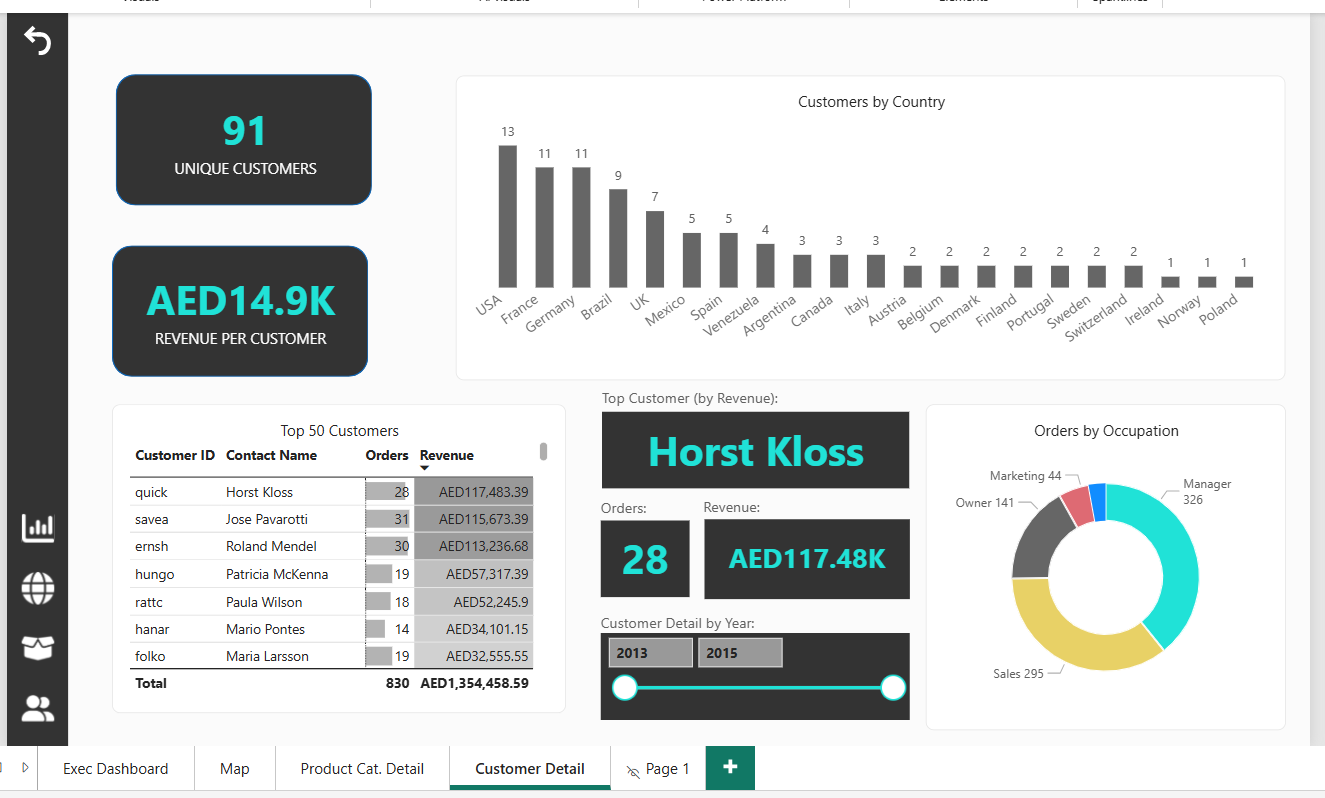

The page's visual inventory and layout, read from the dashboard file:
{"tool":"powerbi","page":{"name":"Customer Detail","canvas":[1280,720],"ordinal":3},"visuals":[{"type":"shape","box":[0,0,60.1,720.2],"z":0},{"type":"shape","box":[107,60.1,251.5,128.8],"z":1000},{"type":"actionButton","box":[0,481,60.1,50.3],"z":1000,"group":"g1"},{"type":"card","fields":{"Values":["Measure Table.Total Customers"]},"box":[107.5,60,252.5,128.8],"z":2000},{"type":"actionButton","box":[0,539.9,60.1,50.3],"z":2000,"group":"g1"},{"type":"shape","box":[103,228.1,251.5,128.8],"z":3000},{"type":"actionButton","box":[0,598.8,60.1,50.3],"z":3000,"group":"g1"},{"type":"card","fields":{"Values":["Measure Table.Average Revenue per customer"]},"box":[103.8,227.5,250,128.8],"z":4000},{"type":"actionButton","box":[0,657.7,60.1,50.3],"z":4000,"group":"g1"},{"type":"tableEx","title":"Top 50 Customers","fields":{"Values":["customers.Customer ID","customers.Contact Name","Measure Table.Total Orders","Measure Table.Total Sales"]},"box":[103.1,384.1,445.4,303.1],"z":5000},{"type":"textbox","box":[583.8,368.3,181.6,27],"z":6000},{"type":"card","fields":{"Values":["Min(customers.Contact Name)"]},"box":[584.1,391.4,301.8,74.8],"z":7000},{"type":"card","fields":{"Values":["Measure Table.Total Orders"]},"box":[582.8,498.2,87.1,74.8],"z":8000},{"type":"textbox","box":[582.8,476.6,58.9,22.1],"z":9000},{"type":"card","fields":{"Values":["Measure Table.Total Revenue"]},"box":[684.7,496.9,201.2,78.5],"z":10000},{"type":"textbox","box":[683.7,474.8,58.9,22.1],"z":11000},{"type":"group","id":"g1","title":"Navigation","box":[0,481,60.1,227],"z":12000},{"type":"clusteredColumnChart","title":"Customers by Country","fields":{"Category":["customers.Country"],"Y":["CountNonNull(customers.Customer ID)"]},"box":[440.5,61.4,814.7,299.4],"z":13000},{"type":"slicer","fields":{"Values":["orders.Year"]},"box":[582.8,608.6,303.1,84.7],"z":14000},{"type":"textbox","box":[582.8,589.5,173,19.6],"z":15000},{"type":"donutChart","title":"Orders by Occupation","fields":{"Category":["customers.Occupation"],"Y":["Measure Table.Total Orders"]},"box":[901.8,384.1,353.4,320.2],"z":16000},{"type":"actionButton","box":[0,6.1,60.1,40.5],"z":16001}]}

Visuals, with their boxes on the page's 1280x720 design canvas (x1, y1, x2, y2). These are canvas units, not pixel positions in the 1325x798 screenshot, which may show the page scaled, cropped or inside an application window:
shape: 0/0/60/720
shape: 107/60/358/189
actionButton: 0/481/60/531
card - Measure Table.Total Customers: 108/60/360/189
actionButton: 0/540/60/590
shape: 103/228/354/357
actionButton: 0/599/60/649
card - Measure Table.Average Revenue per customer: 104/228/354/356
actionButton: 0/658/60/708
"Top 50 Customers" tableEx: 103/384/548/687
textbox: 584/368/765/395
card - Min(customers.Contact Name): 584/391/886/466
card - Measure Table.Total Orders: 583/498/670/573
textbox: 583/477/642/499
card - Measure Table.Total Revenue: 685/497/886/575
textbox: 684/475/743/497
"Navigation" group: 0/481/60/708
"Customers by Country" clusteredColumnChart: 440/61/1255/361
slicer - orders.Year: 583/609/886/693
textbox: 583/590/756/609
"Orders by Occupation" donutChart: 902/384/1255/704
actionButton: 0/6/60/47
